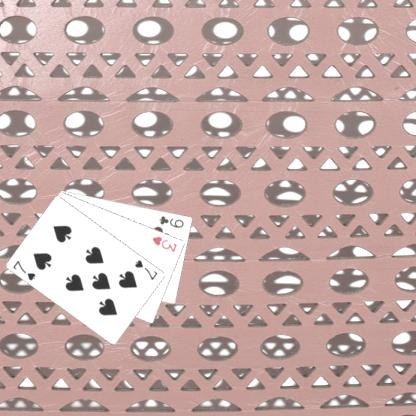3H: (150, 233, 178, 254)
7S: (132, 257, 159, 281), (10, 258, 37, 282)
9C: (156, 213, 186, 229)
